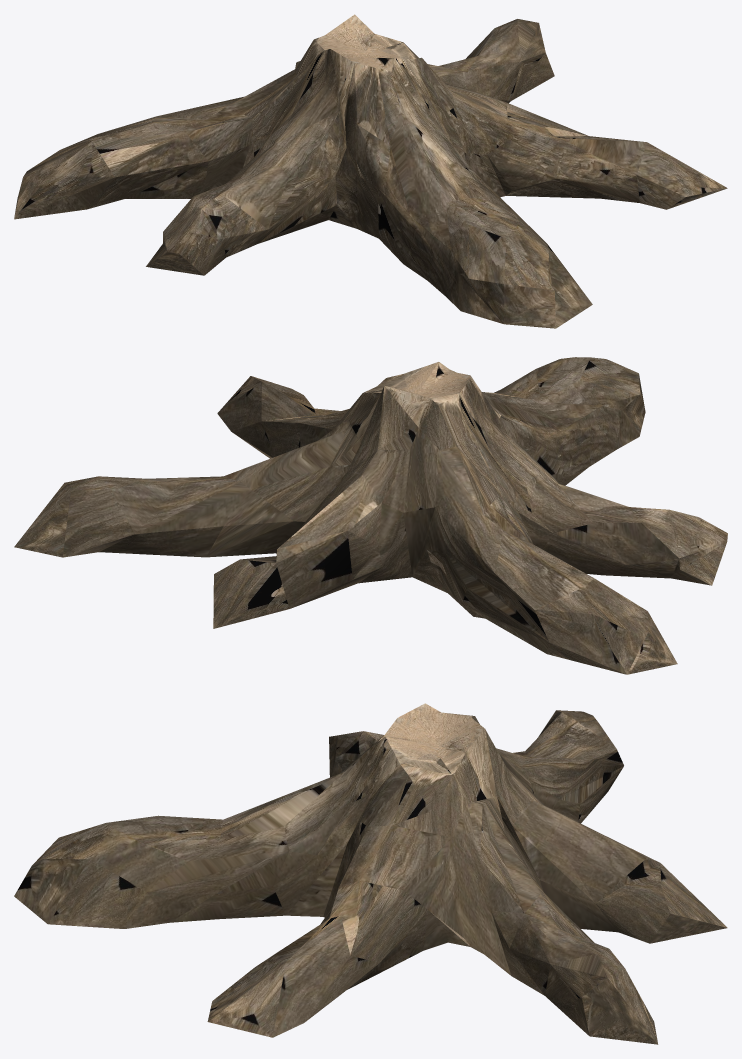
Rendered from co_buttress_roots_lod1.glb.
3 renders of one model, top to bottom at view 1: azimuth 30°, elevation 25°; view 2: azimuth 150°, elevation 25°; view 3: azimuth 270°, elevation 25°, orthographic. The views are drawn at different scales.
Visible parts, largest first — view 1: output_unwrapped; view 2: output_unwrapped; view 3: output_unwrapped.
Boxes of the visible parts, bbox=[...] form: output_unwrapped: bbox=[14, 14, 727, 328]; output_unwrapped: bbox=[14, 357, 727, 674]; output_unwrapped: bbox=[14, 703, 727, 1044].
Size of the model in its own units: 1.86 by 0.4896 by 1.82.
1 material, 1 textured.
